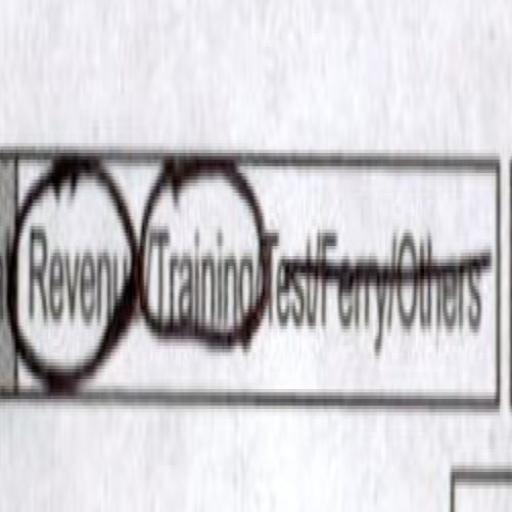check: (143, 100, 264, 417), (14, 108, 136, 409)
